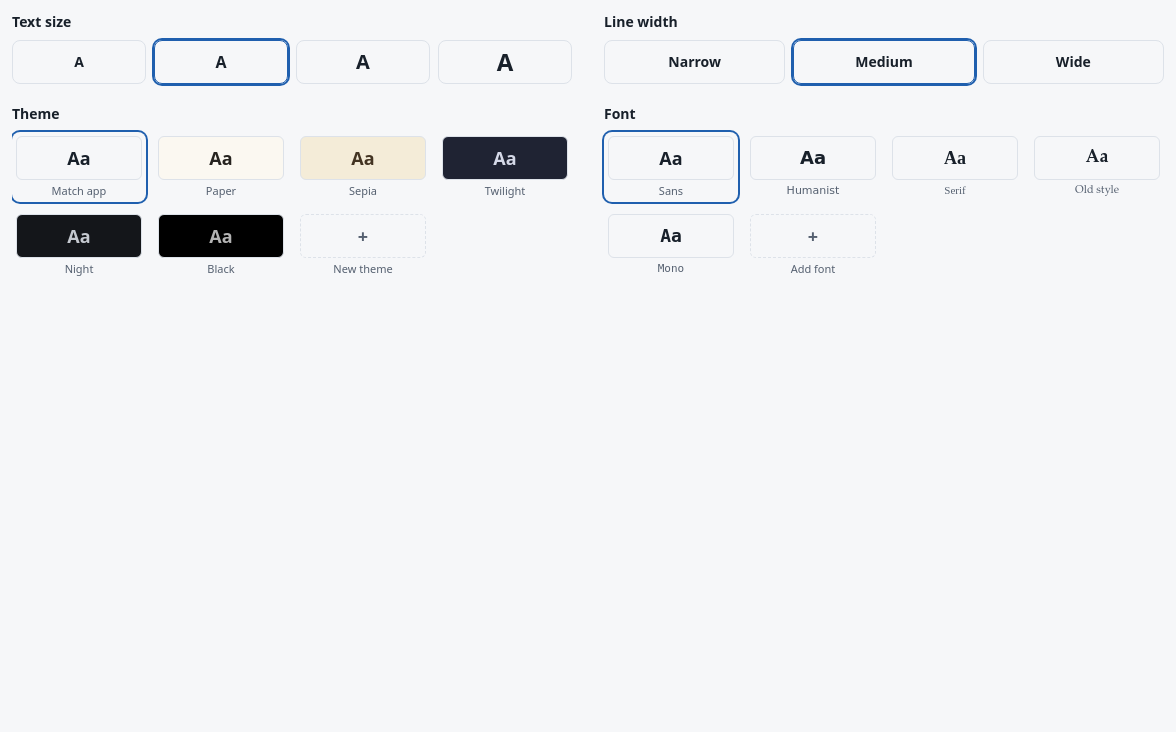
ReaderSettings › fonts › says why an unsafe family name is refused and saves nothing
Click the button "+ Add font". click: click(813, 245)
box: [746,210,880,280]
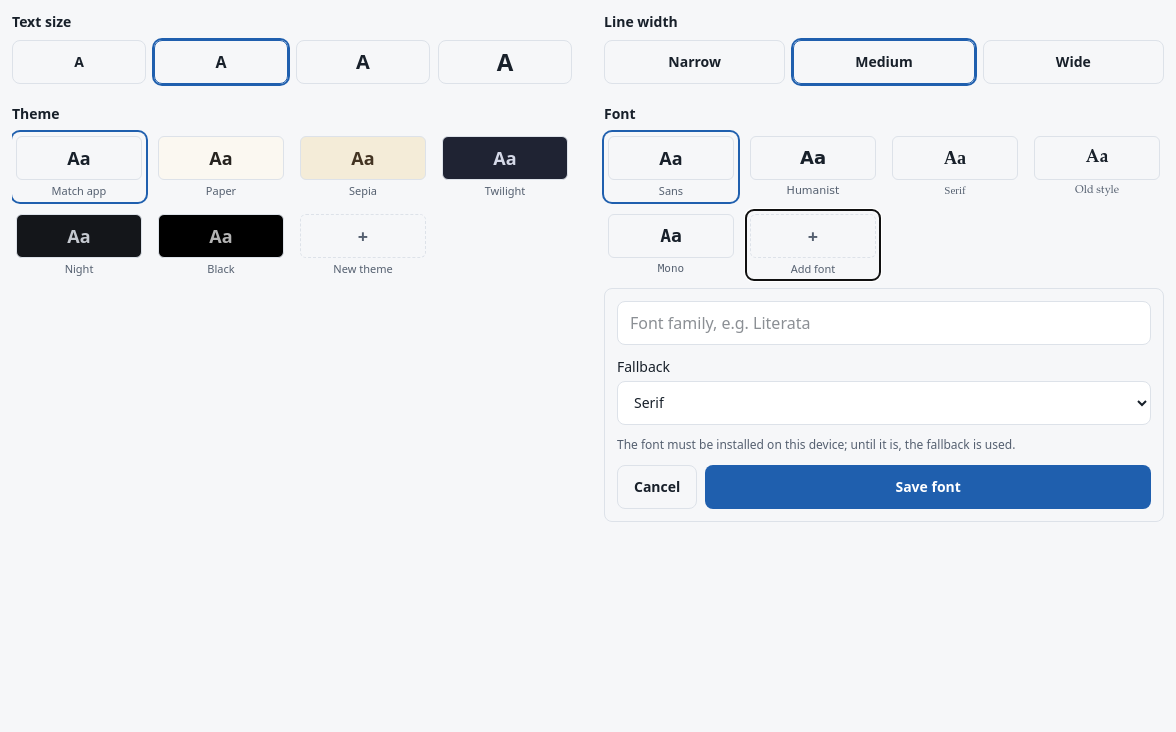
Type "A;B" into the field labelled "Font family". click: (884, 322)
box: [617,300,1151,344]
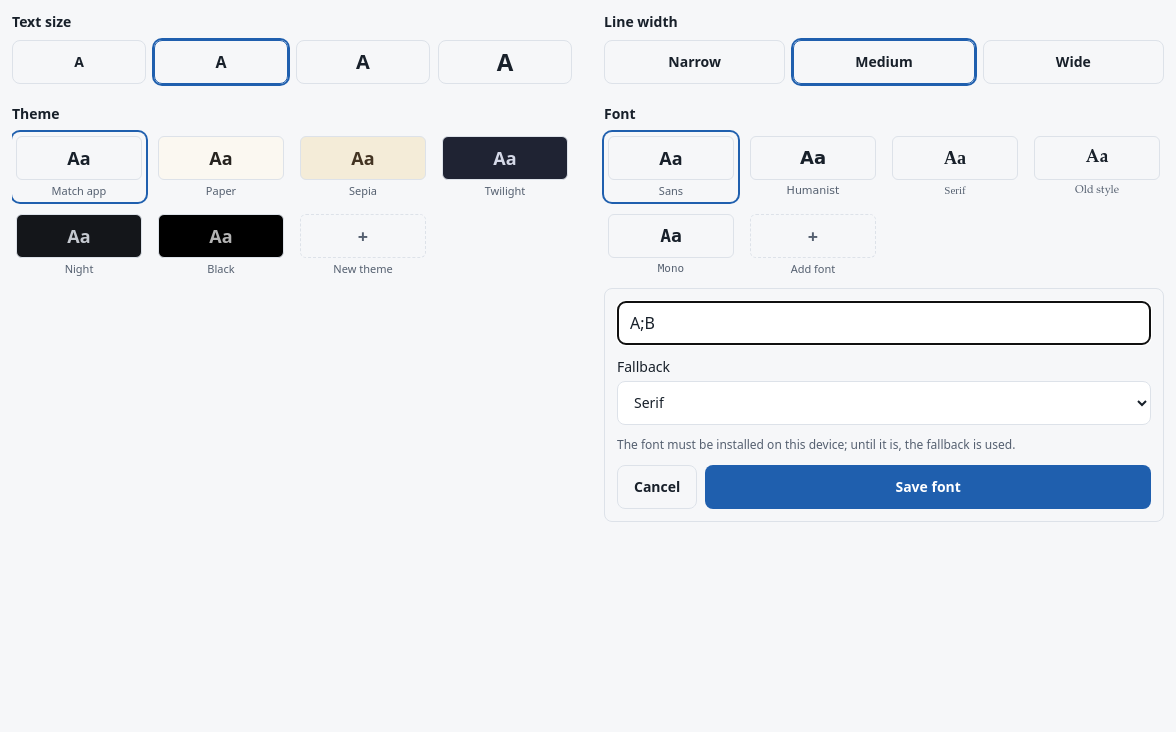
Click the button "Save font". click: click(928, 486)
box: [705,464,1151,508]
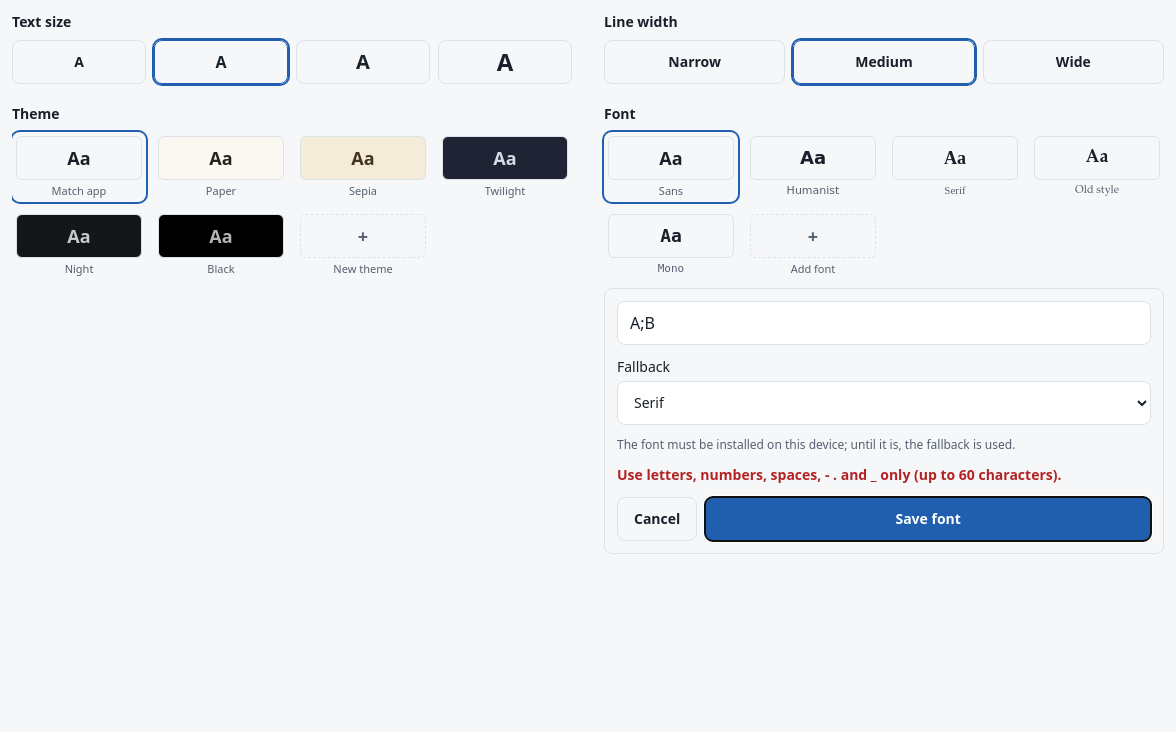
Expected: the message shows "letters, numbers", [617,464,1062,484]
